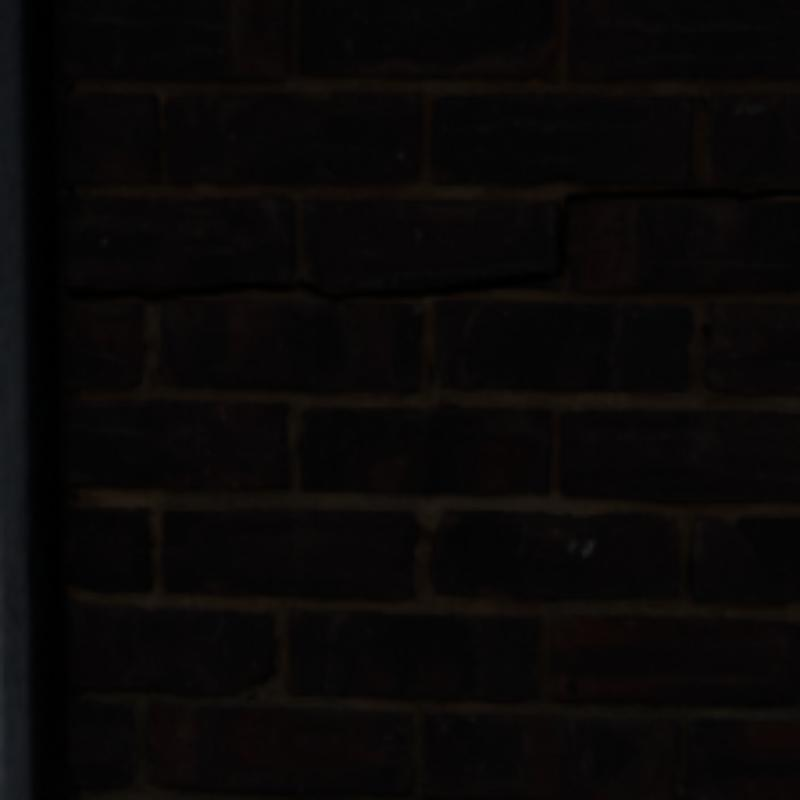crack: (71, 189, 796, 300)
